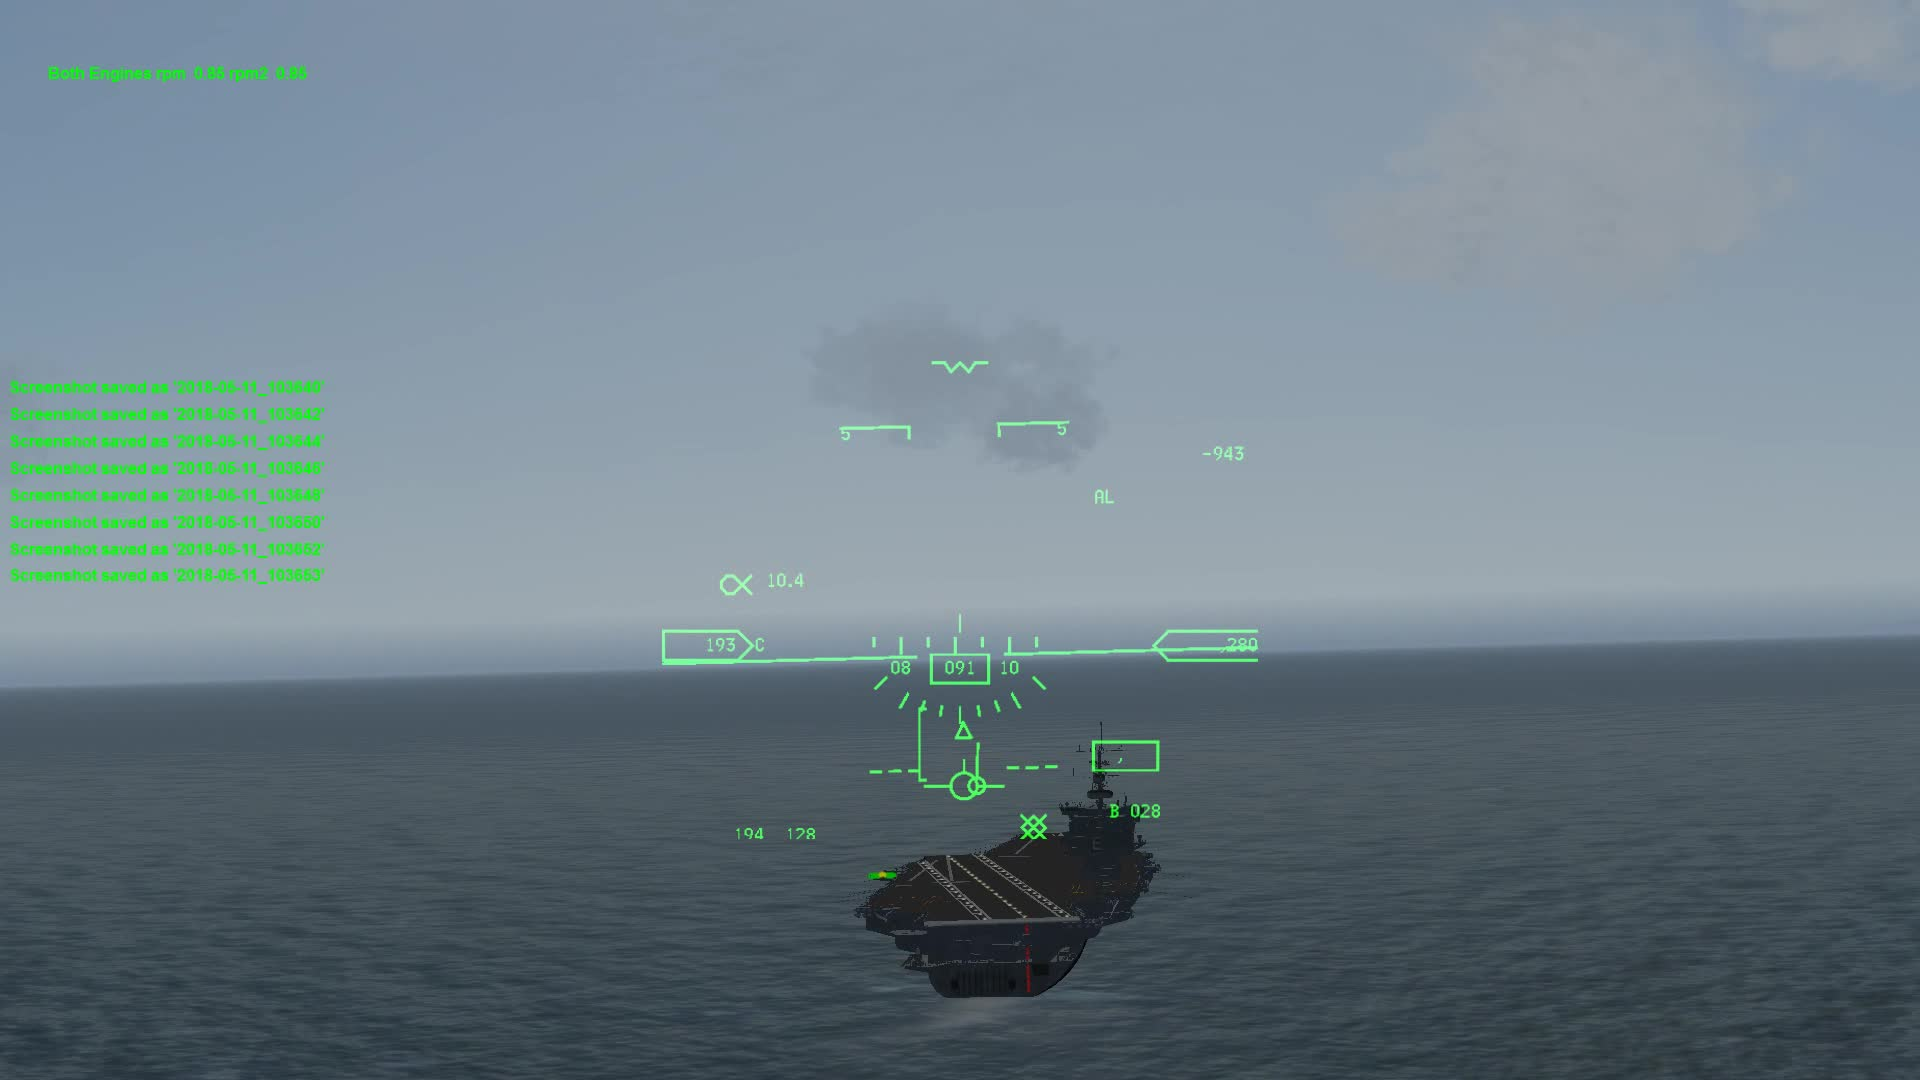speed vector: (923, 742, 1010, 808)
